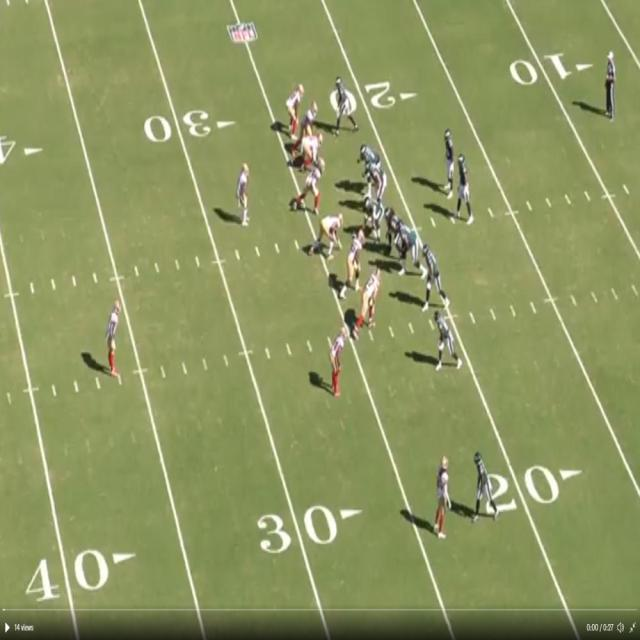center: (362, 200, 384, 233)
db: (282, 81, 304, 137), (331, 325, 347, 396), (107, 301, 122, 374), (437, 456, 449, 536), (236, 164, 250, 219)
lb: (308, 159, 326, 210), (298, 102, 316, 137)
qb: (458, 152, 472, 222)
skill: (472, 454, 496, 514), (361, 266, 382, 329), (435, 313, 460, 363), (345, 225, 363, 291), (425, 242, 444, 303), (335, 75, 349, 132), (445, 129, 455, 191)
